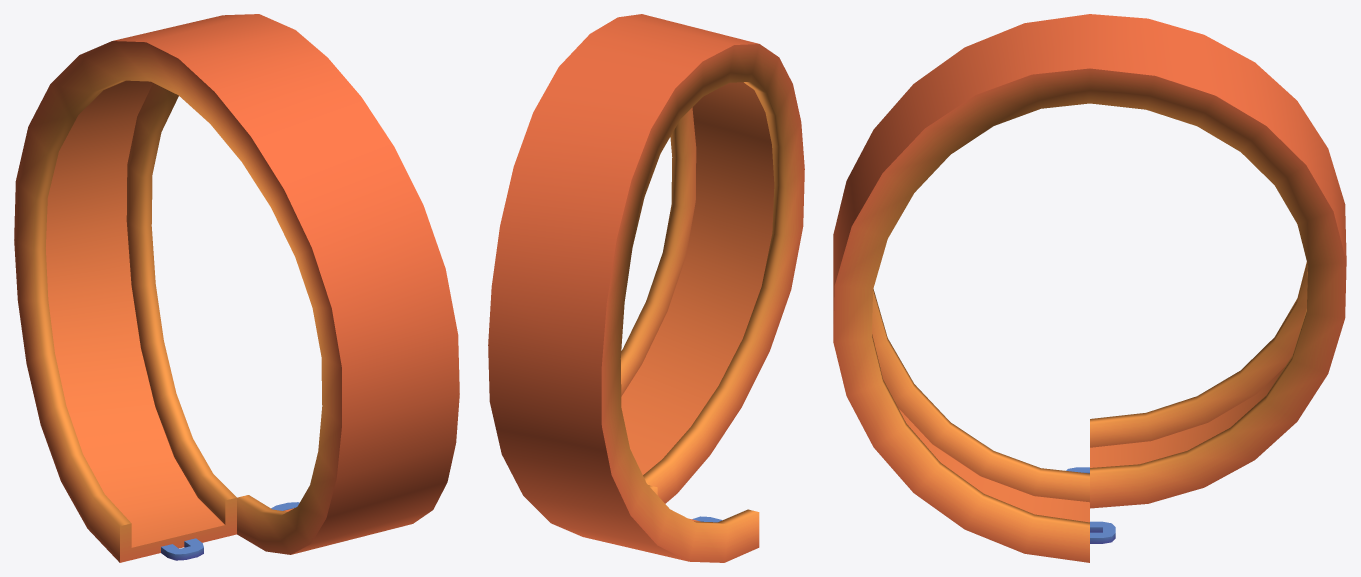
Rendered from track-narrow-looping.obj.
3 renders of one model, left to right at view 1: azimuth 30°, elevation 25°; view 2: azimuth 150°, elevation 25°; view 3: azimuth 270°, elevation 25°, orthographic. The views are drawn at different scales.
Visible parts, largest first — view 1: track-narrow-looping; view 2: track-narrow-looping; view 3: track-narrow-looping.
Boxes of the visible parts, <box> form: track-narrow-looping: <box>14,14,459,562</box>; track-narrow-looping: <box>488,14,804,562</box>; track-narrow-looping: <box>833,14,1346,562</box>.
Size of the model in its own units: 2 by 4 by 3.98.
Materials: 1 (1 with a texture image).
